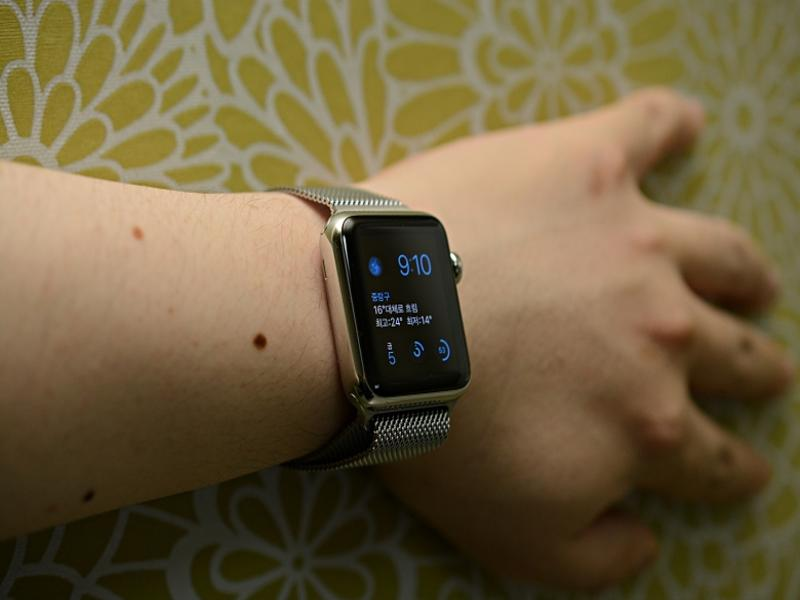watch: (258, 174, 475, 484)
